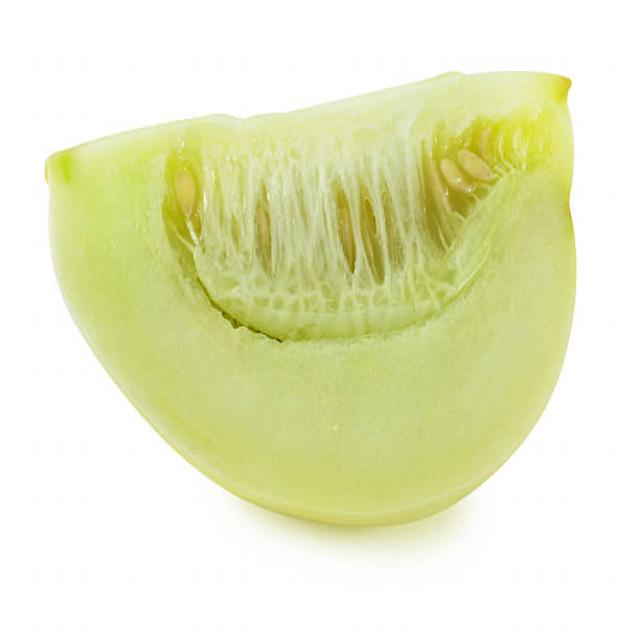melon: (41, 64, 580, 530)
